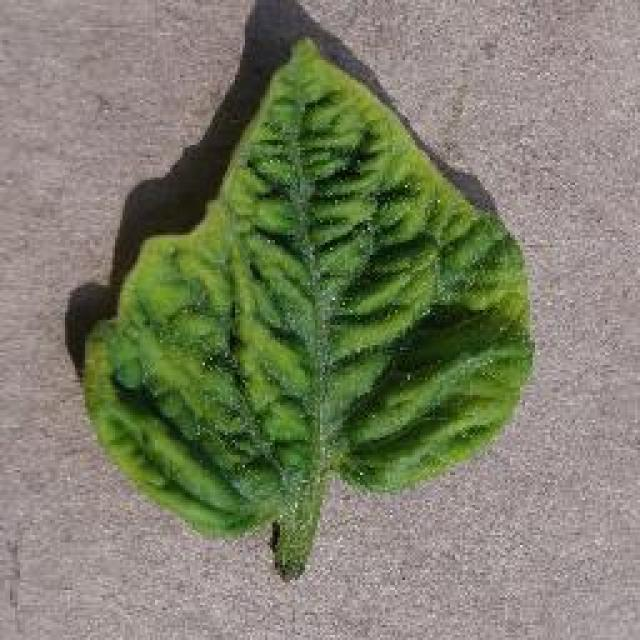Tomato yellow virus leaf: (75, 34, 535, 528)
